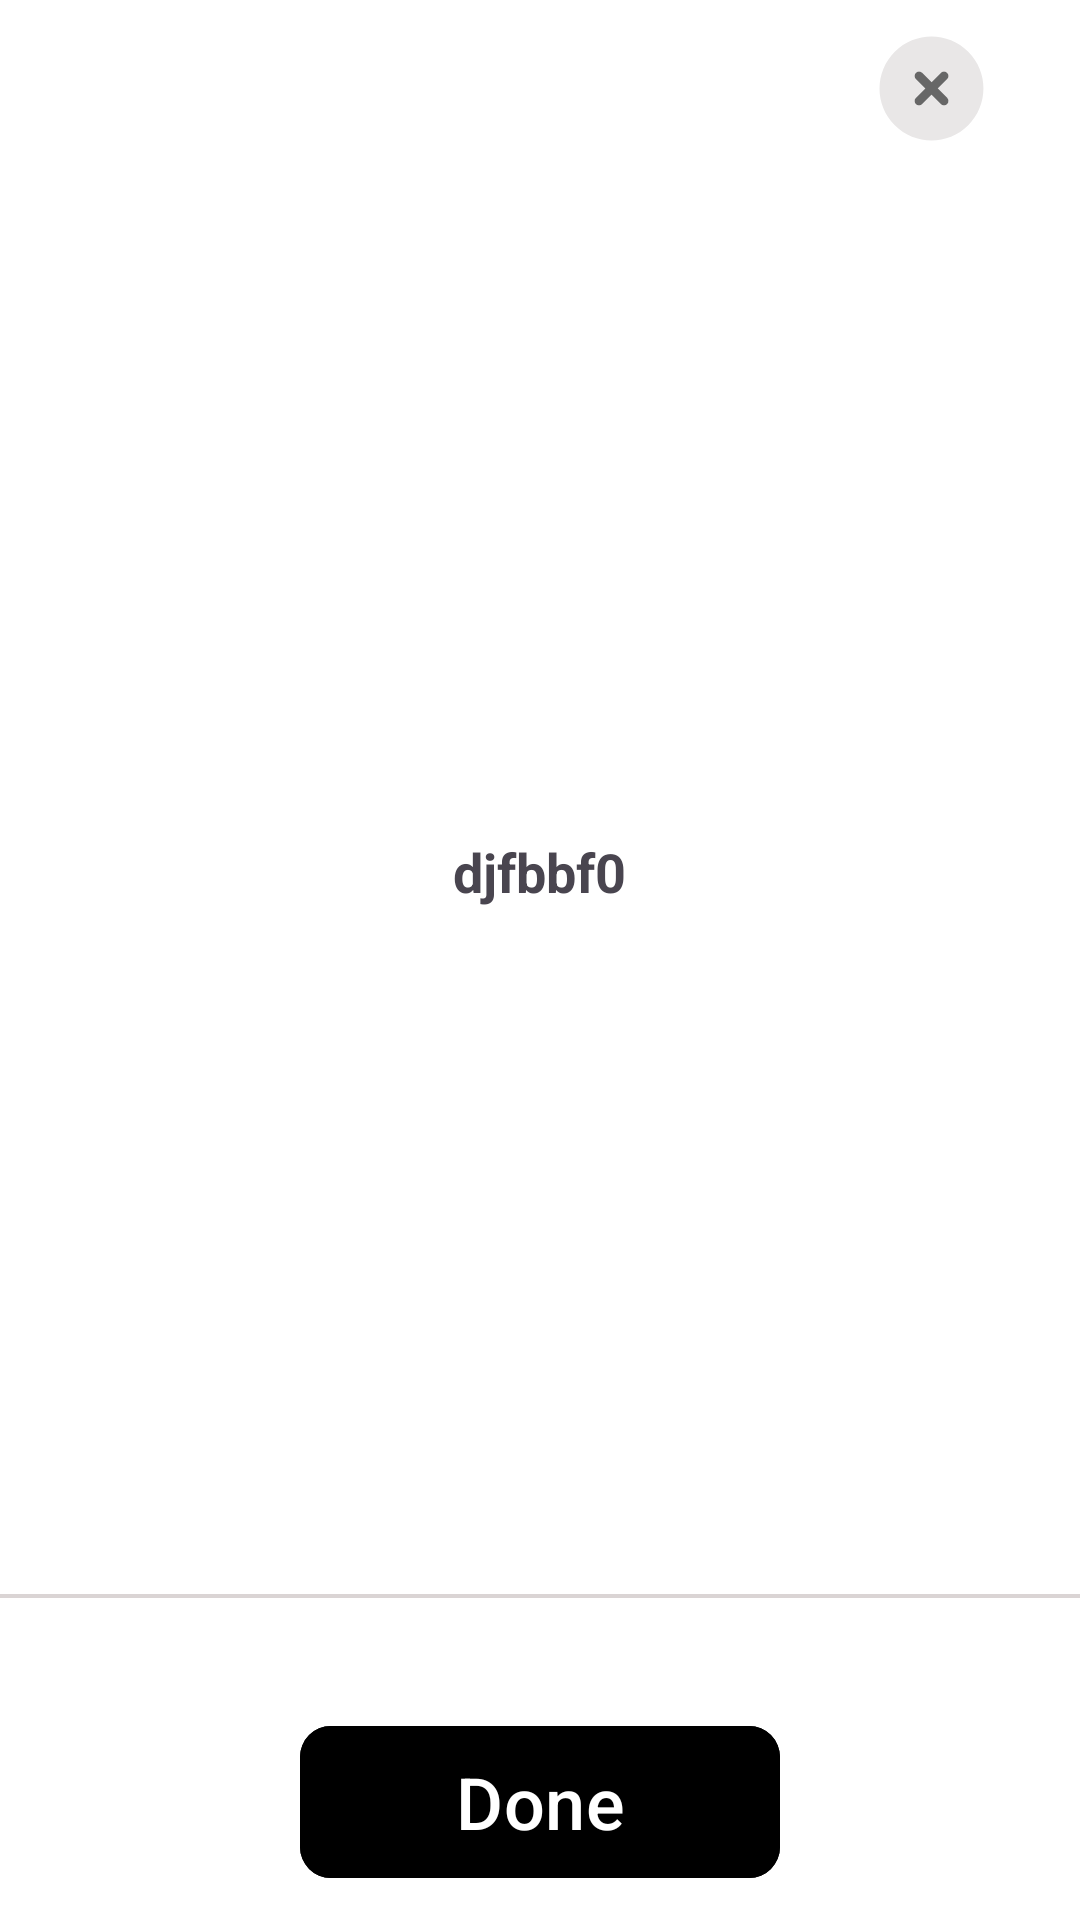

Icons on this 1080px×1920px Android screen, each with its box as {"left": x1, "top": y1, "right": x2, "bottom": y2}:
cross: {"left": 914, "top": 71, "right": 949, "bottom": 106}
